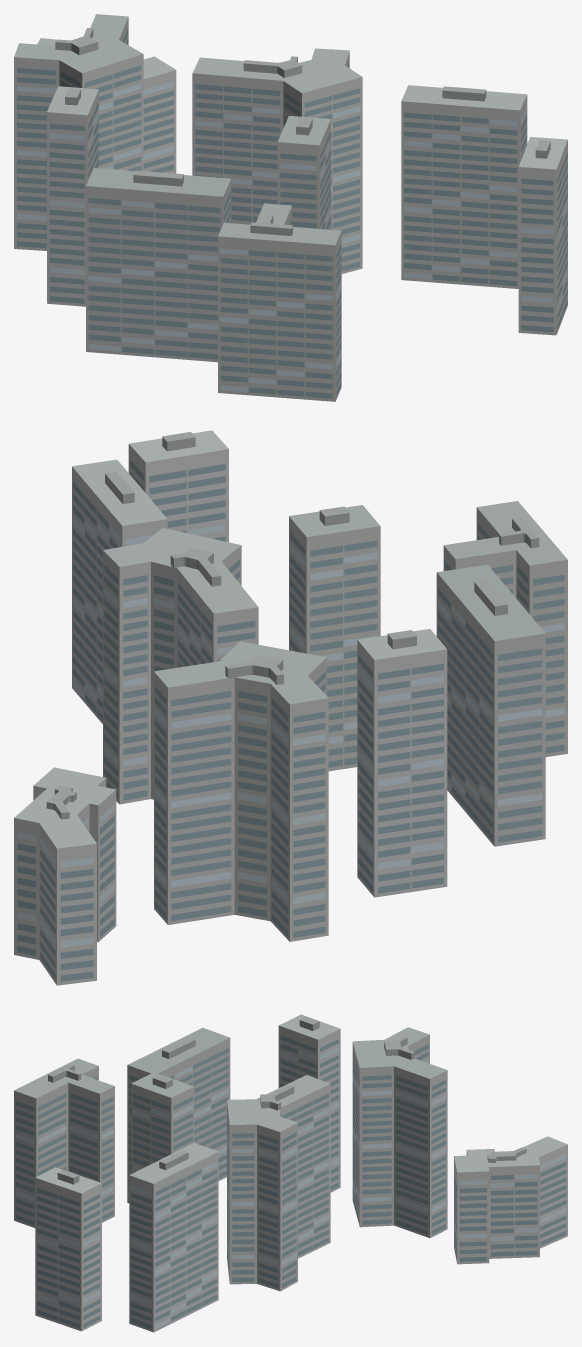
The model's file is apt-a10028006.glb.
3 renders of one model, top to bottom at view 1: azimuth 30°, elevation 25°; view 2: azimuth 150°, elevation 25°; view 3: azimuth 270°, elevation 25°, orthographic. The views are drawn at different scales.
Visible parts, largest first — view 1: apt-a10028006; view 2: apt-a10028006; view 3: apt-a10028006.
Part boxes in pixels (x1=…): apt-a10028006: x1=14, y1=14, x2=567, y2=401; apt-a10028006: x1=14, y1=430, x2=567, y2=985; apt-a10028006: x1=14, y1=1014, x2=567, y2=1332.
Size of the model in its own units: 134 by 62 by 188.
